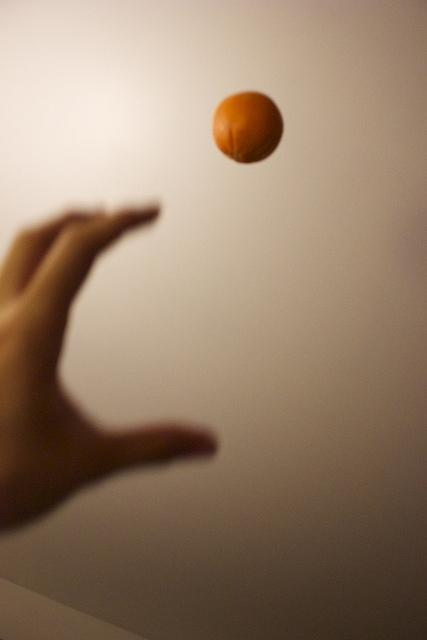orange: (212, 92, 283, 163)
